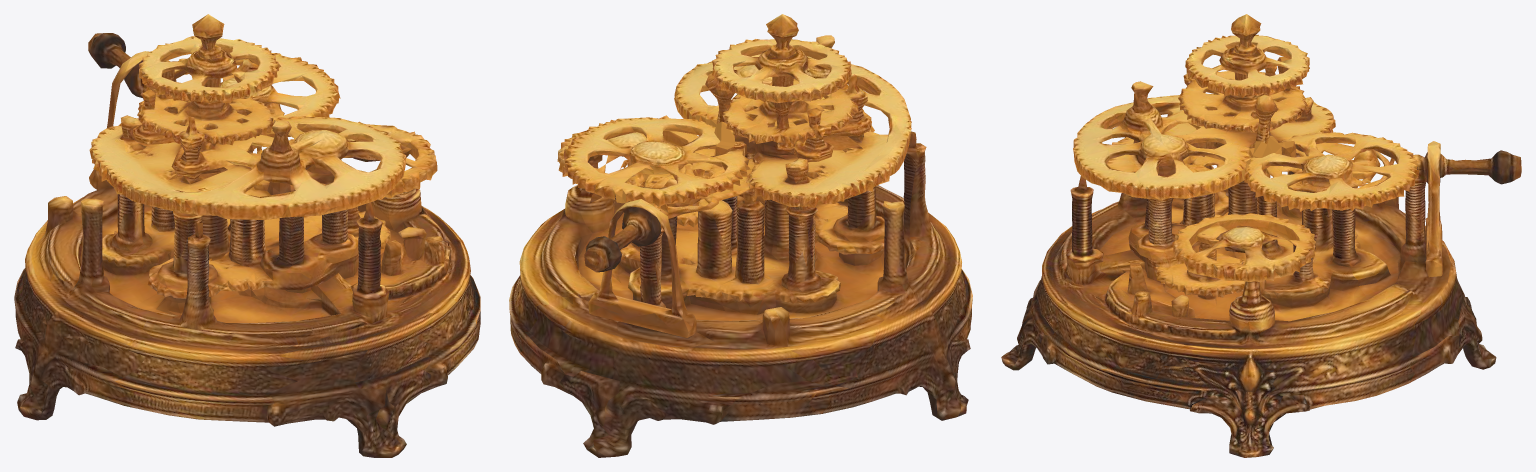
File: gearmachine_animated.glb
The picture shows the model from 3 angles, left to right: view 1: azimuth 30°, elevation 25°; view 2: azimuth 150°, elevation 25°; view 3: azimuth 270°, elevation 25°; orthographic projection. The views are drawn at different scales.
Parts seen in each view (by area): view 1: body, rotation_part_02, rotation_part_03, rotation_part_01; view 2: body, rotation_part_03, rotation_part_02, rotation_part_01; view 3: body, rotation_part_03, rotation_part_01, rotation_part_02.
Part boxes in pixels (x1=…): body: x1=14, y1=14, x2=480, y2=457; rotation_part_02: x1=139, y1=36, x2=278, y2=102; rotation_part_03: x1=146, y1=50, x2=340, y2=118; rotation_part_01: x1=290, y1=121, x2=437, y2=199; body: x1=509, y1=14, x2=972, y2=457; rotation_part_03: x1=563, y1=115, x2=750, y2=206; rotation_part_02: x1=712, y1=39, x2=851, y2=103; rotation_part_01: x1=557, y1=120, x2=708, y2=185; body: x1=1001, y1=14, x2=1521, y2=457; rotation_part_03: x1=1244, y1=132, x2=1419, y2=211; rotation_part_01: x1=1172, y1=213, x2=1315, y2=282; rotation_part_02: x1=1185, y1=34, x2=1309, y2=97.
Bounding box in the file's own units: 0.4098 × 0.3127 × 0.4484.
1 material, 1 textured.
